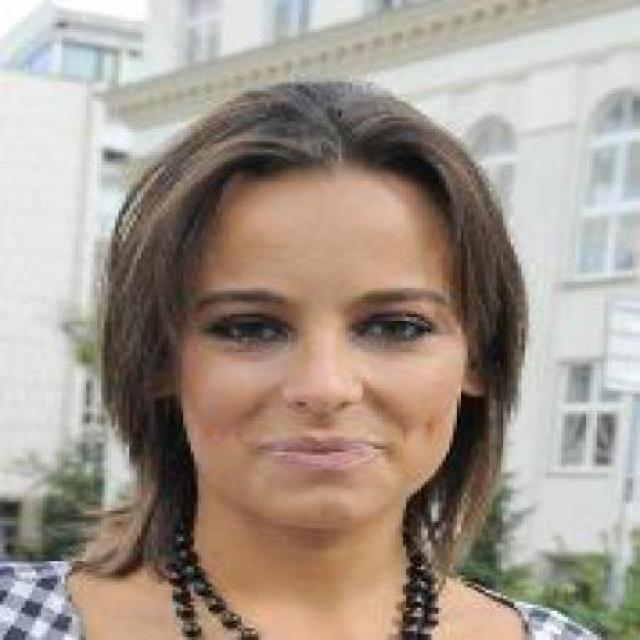closed-mouth: (256, 434, 386, 471)
